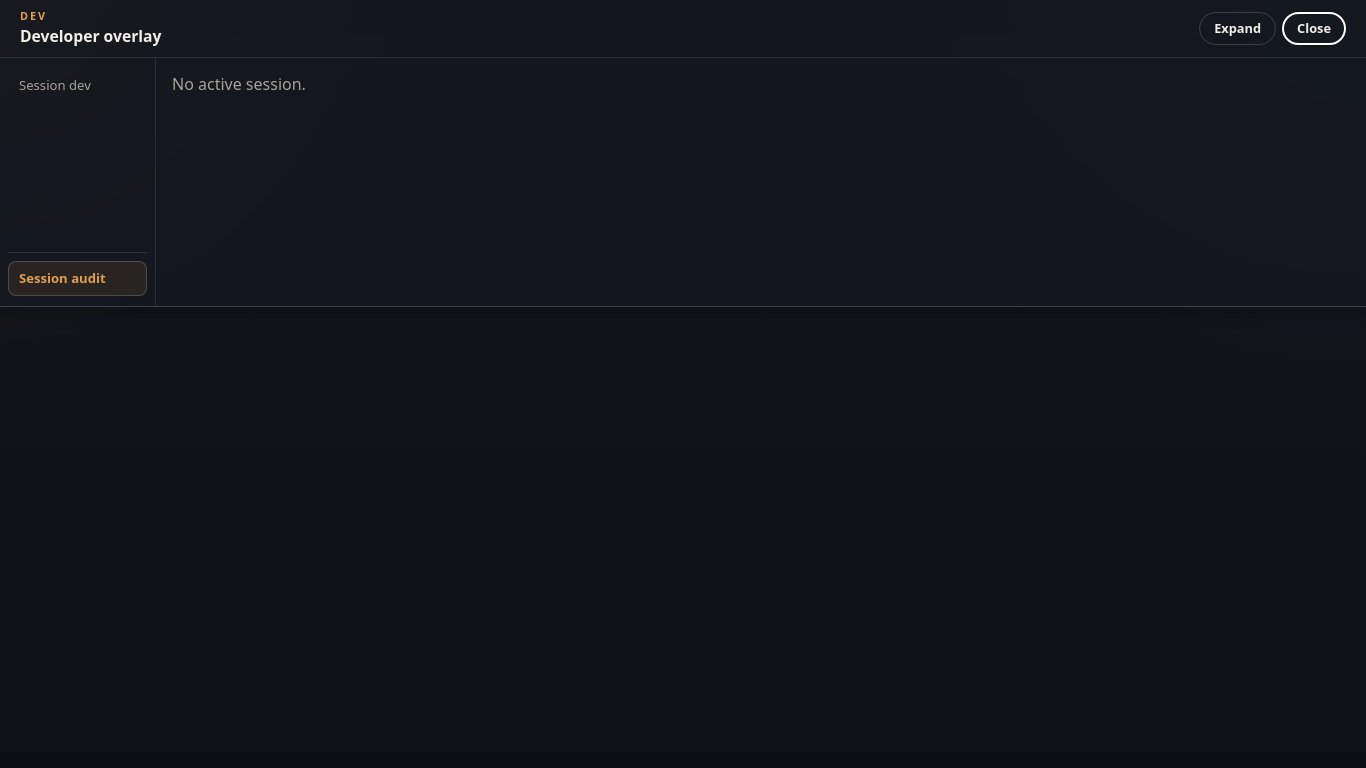
Test: DevOverlay › Escape shrinks instead of closing when expanded
Click the button "Expand" at (1238, 28), box 1199,12 -> 1276,45
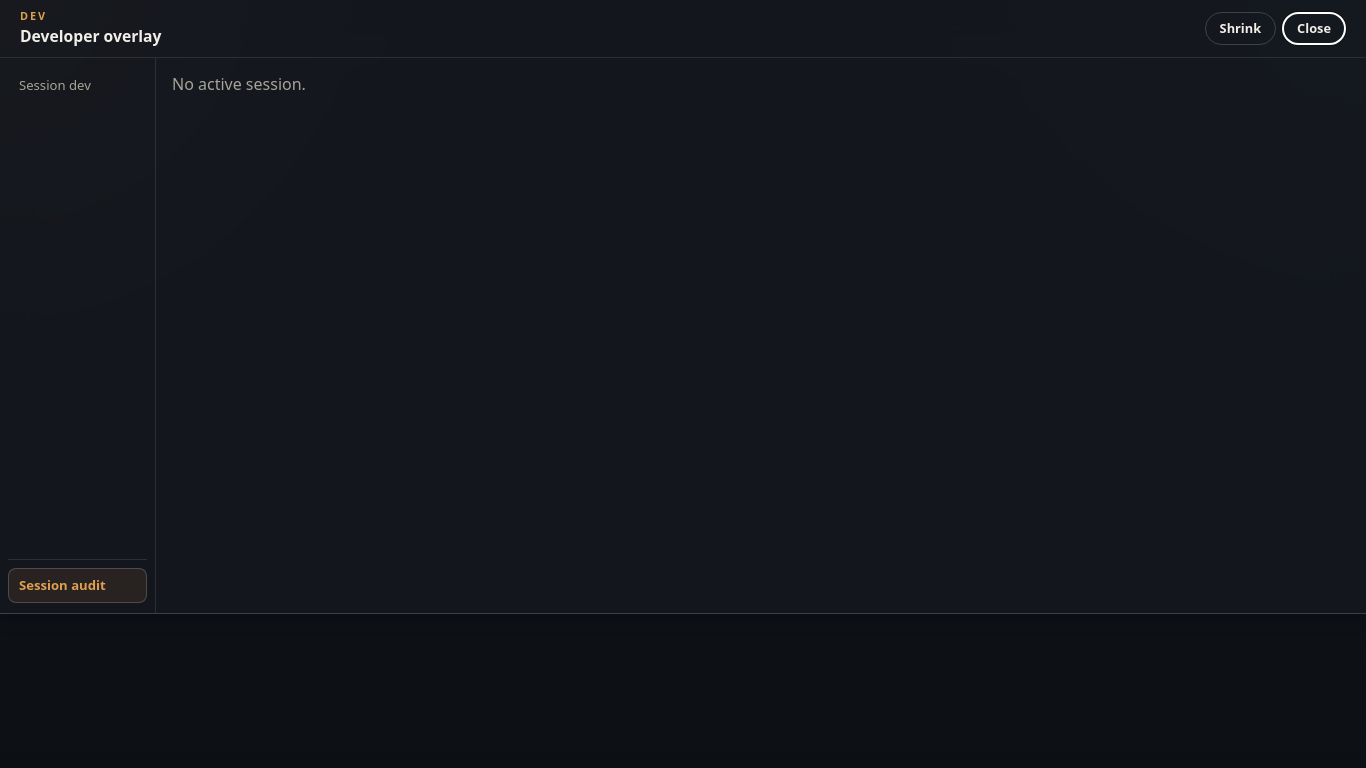
Press Escape
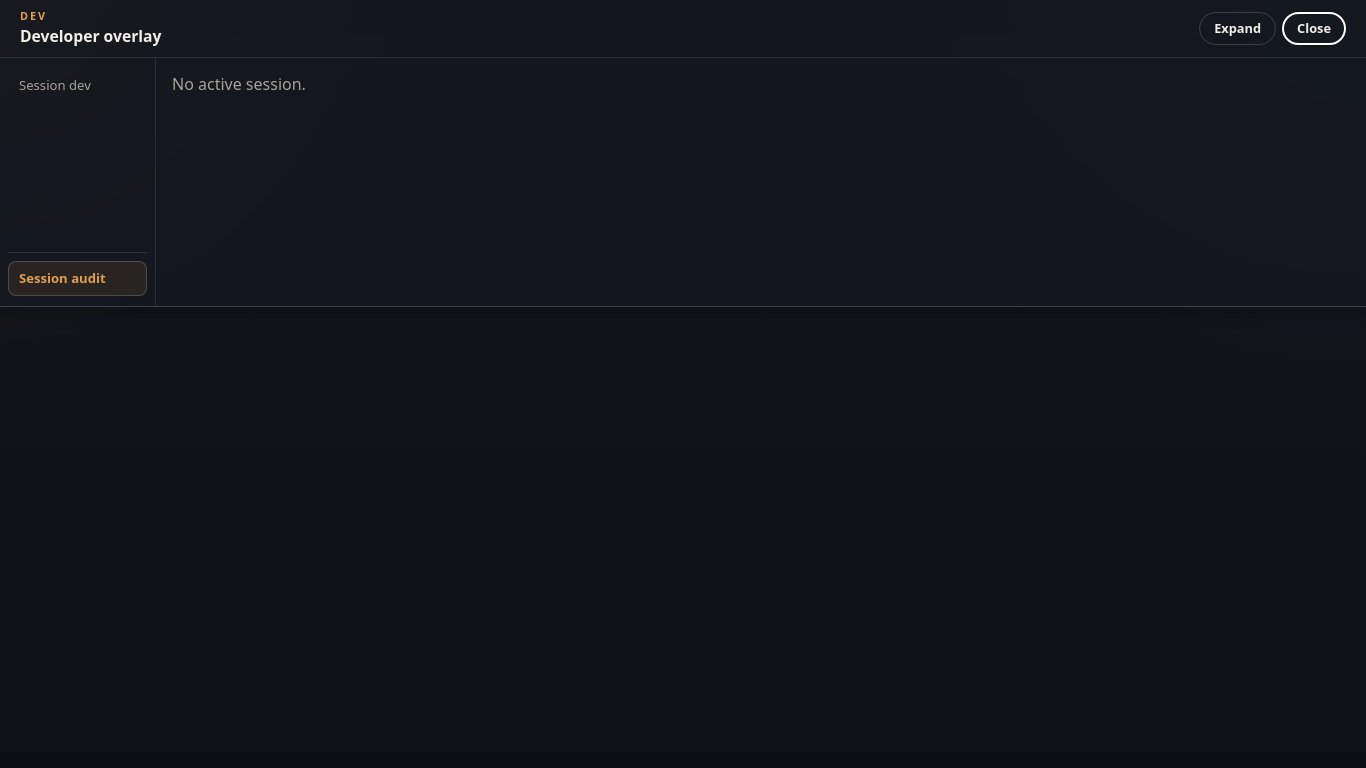
Now the button "Expand" is shown, box 1199,12 -> 1276,45
